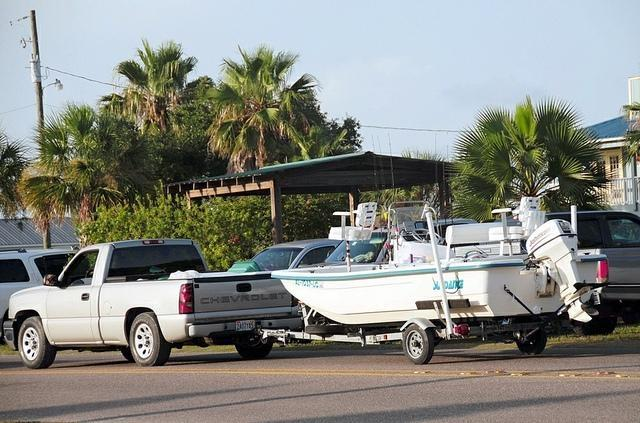car: (0, 247, 81, 346)
truck: (9, 236, 310, 366), (548, 209, 640, 332), (250, 235, 344, 272)
